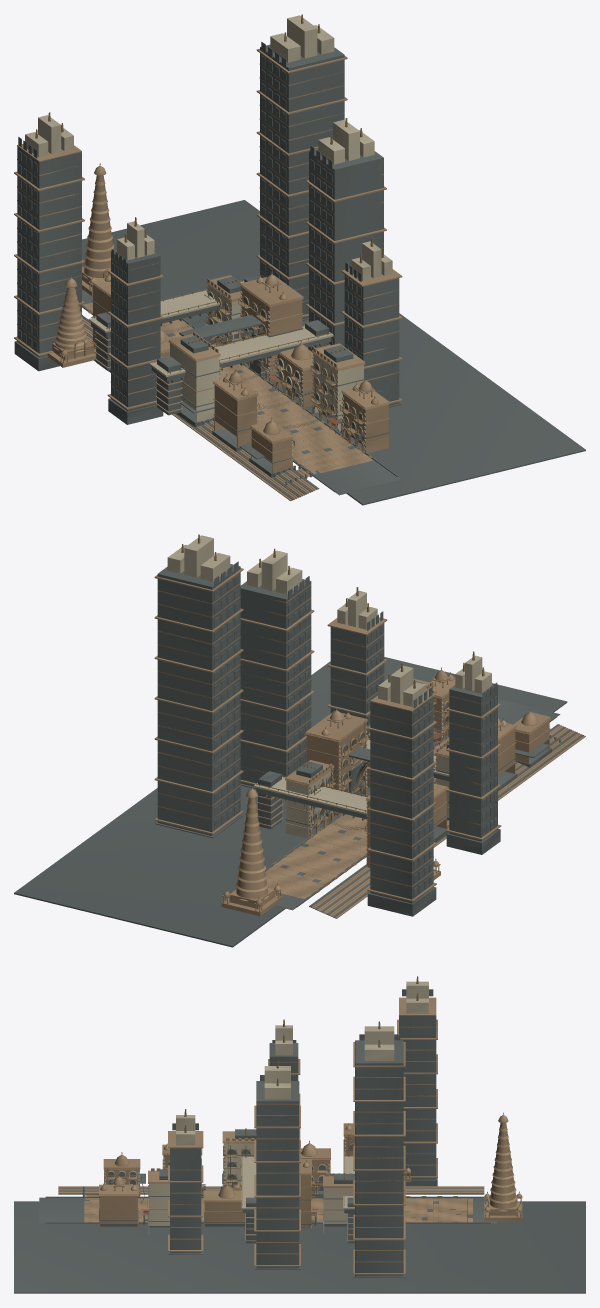
Rendered from street-core.glb.
3 renders of one model, top to bottom at view 1: azimuth 30°, elevation 25°; view 2: azimuth 150°, elevation 25°; view 3: azimuth 270°, elevation 25°, orthographic. The views are drawn at different scales.
Parts seen in each view (by area): view 1: correction-dark, correction-sand, correction-plaster, correction-bronze; view 2: correction-dark, correction-sand, correction-plaster, correction-bronze; view 3: correction-dark, correction-sand, correction-plaster, correction-bronze.
Boxes of the visible parts, left/top/right/bottom form: correction-dark: left=14, top=41, right=585, bottom=505; correction-sand: left=14, top=48, right=402, bottom=500; correction-plaster: left=25, top=15, right=392, bottom=464; correction-bronze: left=35, top=14, right=383, bottom=473; correction-dark: left=14, top=561, right=583, bottom=947; correction-sand: left=154, top=568, right=585, bottom=918; correction-plaster: left=167, top=535, right=491, bottom=862; correction-bronze: left=181, top=534, right=530, bottom=911; correction-dark: left=14, top=989, right=585, bottom=1293; correction-sand: left=58, top=997, right=522, bottom=1274; correction-plaster: left=104, top=981, right=428, bottom=1234; correction-bronze: left=88, top=976, right=521, bottom=1222.
Bounding box in the file's own units: 97.1 × 88.1 × 180.
